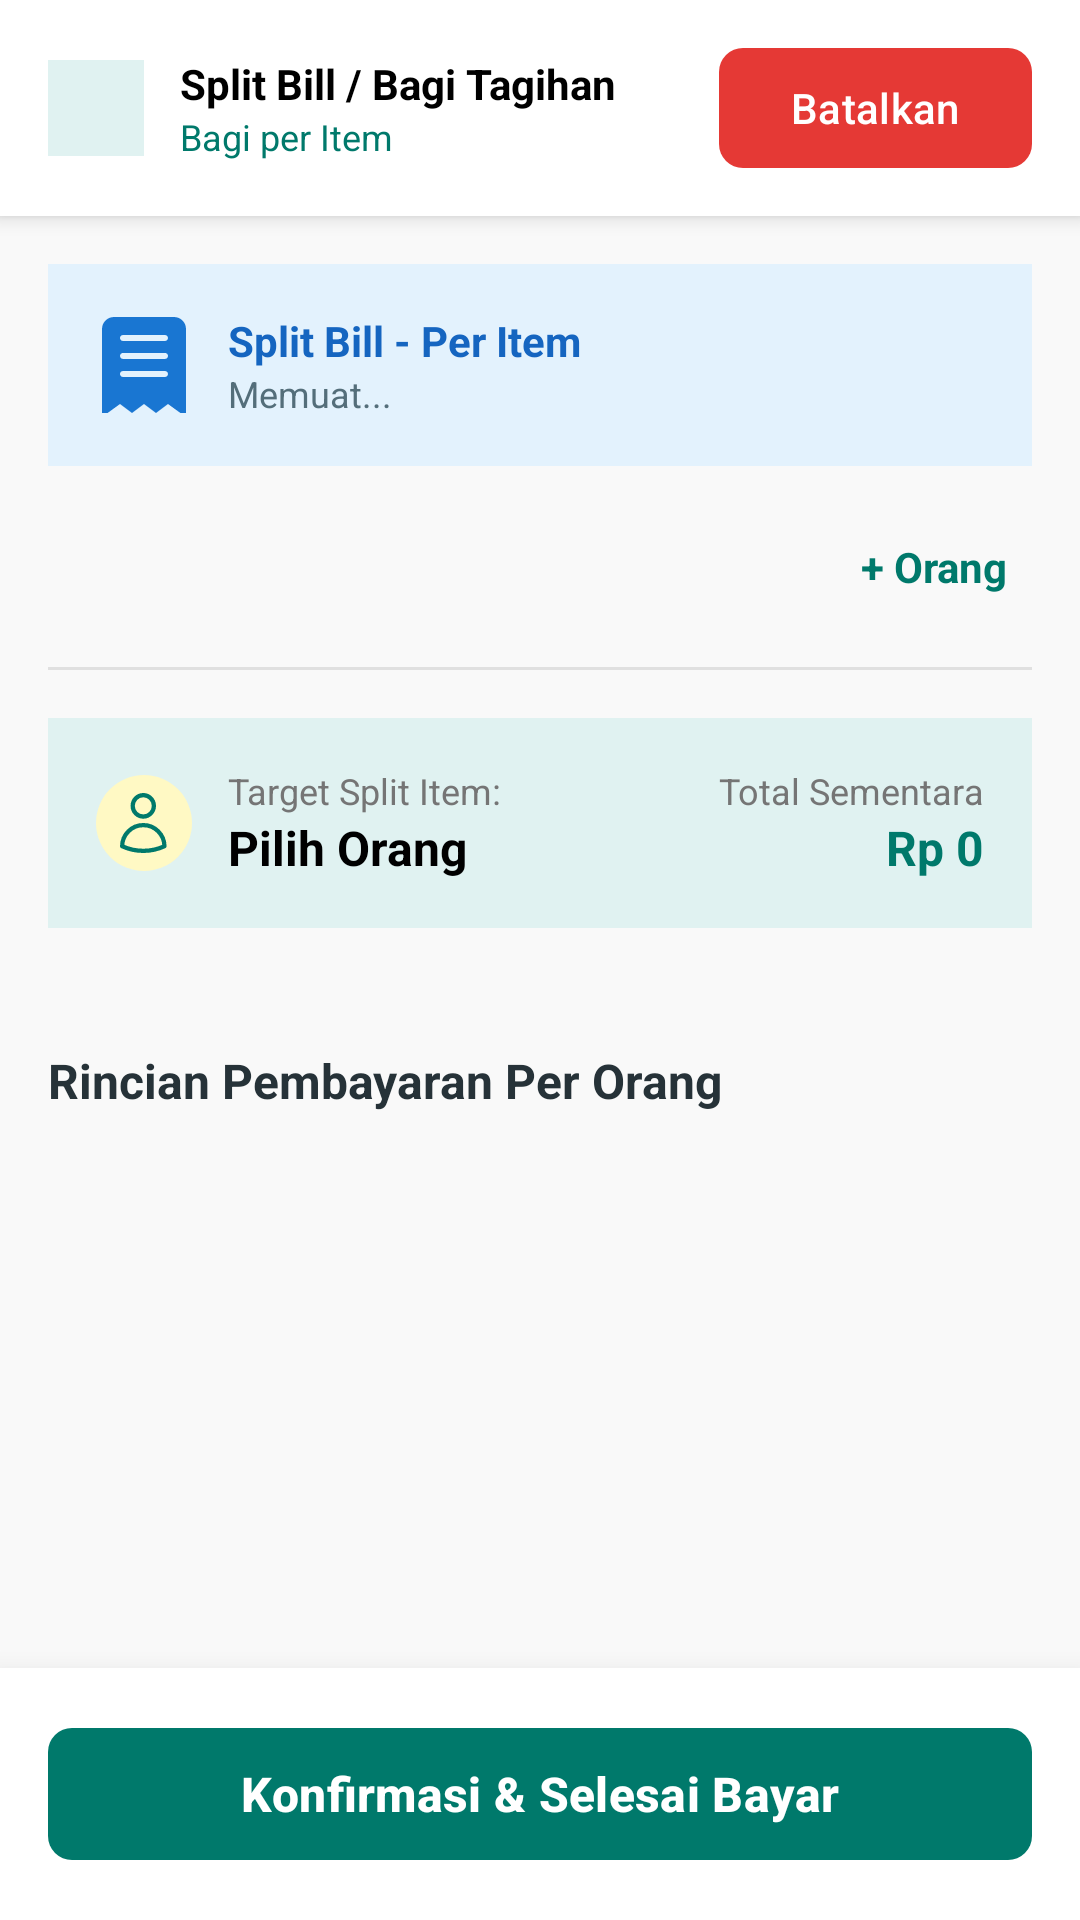

Named icons in this screenshot (1080 × 1920) and their bounding boxes, region(x1, y1, x2, y2):
receipt: region(102, 317, 186, 413)
user: region(96, 775, 192, 871)
